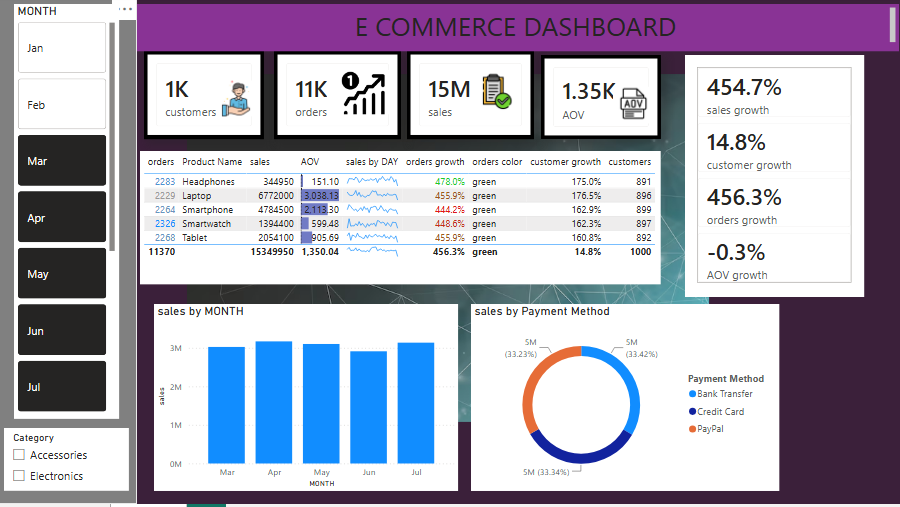

The dashboard page shown, as its layout file describes it:
{"tool":"powerbi","page":{"name":"Page 1","canvas":[1280,720],"ordinal":0},"visuals":[{"type":"shape","box":[0,0,199.8,720],"z":0},{"type":"slicer","fields":{"Values":["dimproduct.Category"]},"box":[11.3,612.3,177.2,89.3],"z":1000},{"type":"cardVisual","fields":{"Data":["measures (2).customers"]},"box":[209.8,78,170.1,124.7],"z":2000},{"type":"cardVisual","fields":{"Data":["measures (2).orders"]},"box":[394,78,180,124.7],"z":3000},{"type":"cardVisual","fields":{"Data":["measures (2).sales"]},"box":[582.5,78,180,124.7],"z":4000},{"type":"cardVisual","fields":{"Data":["measures (2).AOV"]},"box":[772.4,83.6,170.1,119.1],"z":5000},{"type":"textbox","box":[199.8,11.3,1080,66.6],"z":6000},{"type":"donutChart","fields":{"Category":["dimpaymentmethod.Payment Method"],"Y":["measures (2).sales"]},"box":[673.2,436.5,436.5,265],"z":7000},{"type":"clusteredColumnChart","fields":{"Y":["measures (2).sales"],"Category":["calender.MONTH"]},"box":[223.9,436.5,430.9,265],"z":8000},{"type":"advancedSlicerVisual","fields":{"Values":["calender.MONTH"]},"box":[25.5,11.3,148.8,588.2],"z":9000},{"type":"tableEx","fields":{"Values":["measures (2).orders","dimproduct.Product Name","measures (2).sales","measures (2).AOV","SparklineData(measures (2).sales_[calender.DAY])","measures (2).orders growth","measures (2).orders color","measures (2).customer growth","measures (2).customers"]},"box":[204.1,219.7,738.4,188.5],"z":10000},{"type":"image","box":[314.6,100.6,51,89.3],"z":11000},{"type":"image","box":[483.3,100.6,79.4,70.9],"z":12000},{"type":"image","box":[680.3,100.6,59.5,70.9],"z":13000},{"type":"image","box":[874.5,83.6,58.1,141.7],"z":14000},{"type":"cardVisual","fields":{"Data":["measures (2).sales growth","measures (2).customer growth","measures (2).orders growth","measures (2).AOV growth"]},"box":[976.5,83.6,253.7,343],"z":15000}]}

Visuals, with their boxes in screenshot pixels (x1, y1, x2, y2):
shape: 0,0,134,497
slicer - dimproduct.Category: 3,422,126,484
cardVisual - measures (2).customers: 141,52,259,138
cardVisual - measures (2).orders: 269,52,393,138
cardVisual - measures (2).sales: 399,52,524,138
cardVisual - measures (2).AOV: 531,56,649,138
textbox: 134,5,883,52
donutChart - dimpaymentmethod.Payment Method x measures (2).sales: 462,300,765,484
clusteredColumnChart - measures (2).sales x calender.MONTH: 151,300,449,484
advancedSlicerVisual - calender.MONTH: 13,5,116,413
tableEx - measures (2).orders x dimproduct.Product Name: 137,150,649,281
image: 213,67,249,129
image: 330,67,385,117
image: 467,67,508,117
image: 602,56,642,154
cardVisual - measures (2).sales growth x measures (2).customer growth: 672,56,848,293
